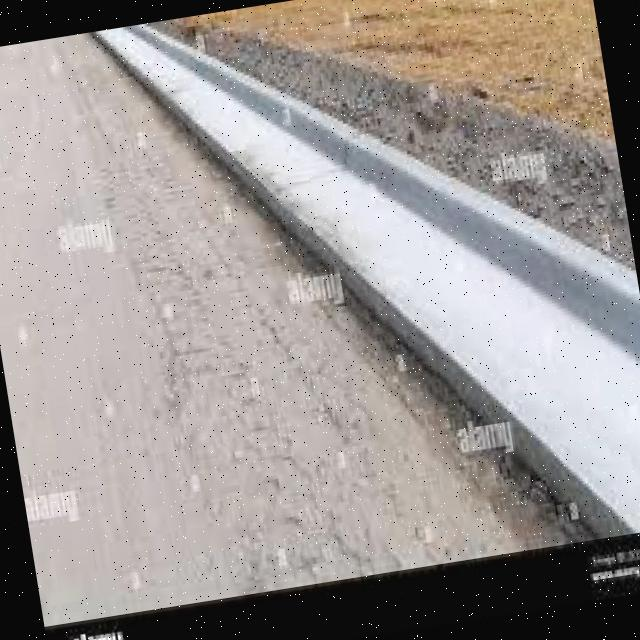curb: (360, 164, 543, 485), (498, 171, 640, 541), (187, 120, 435, 257), (102, 12, 245, 139), (251, 64, 369, 177)
